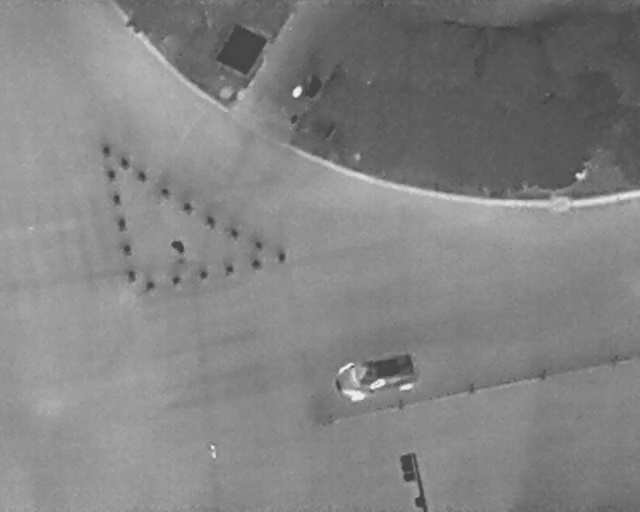Car: (328, 347, 423, 408)
